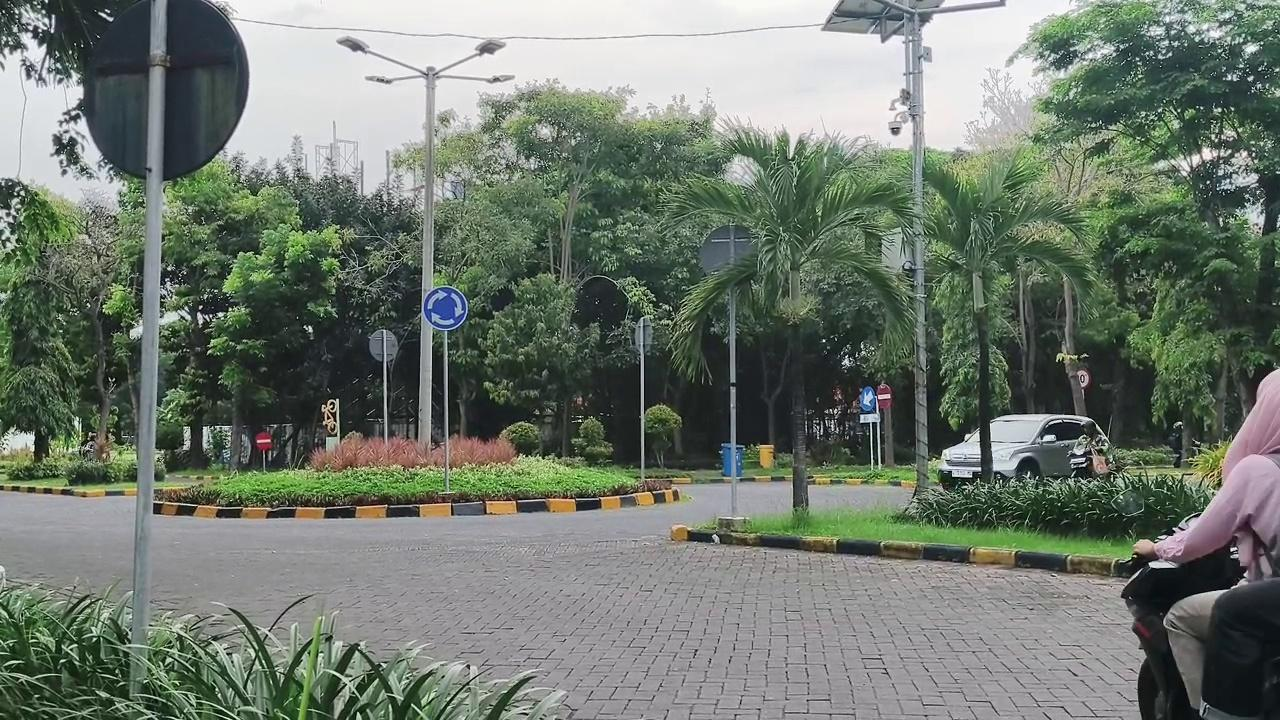Motor: (1121, 546, 1243, 719)
